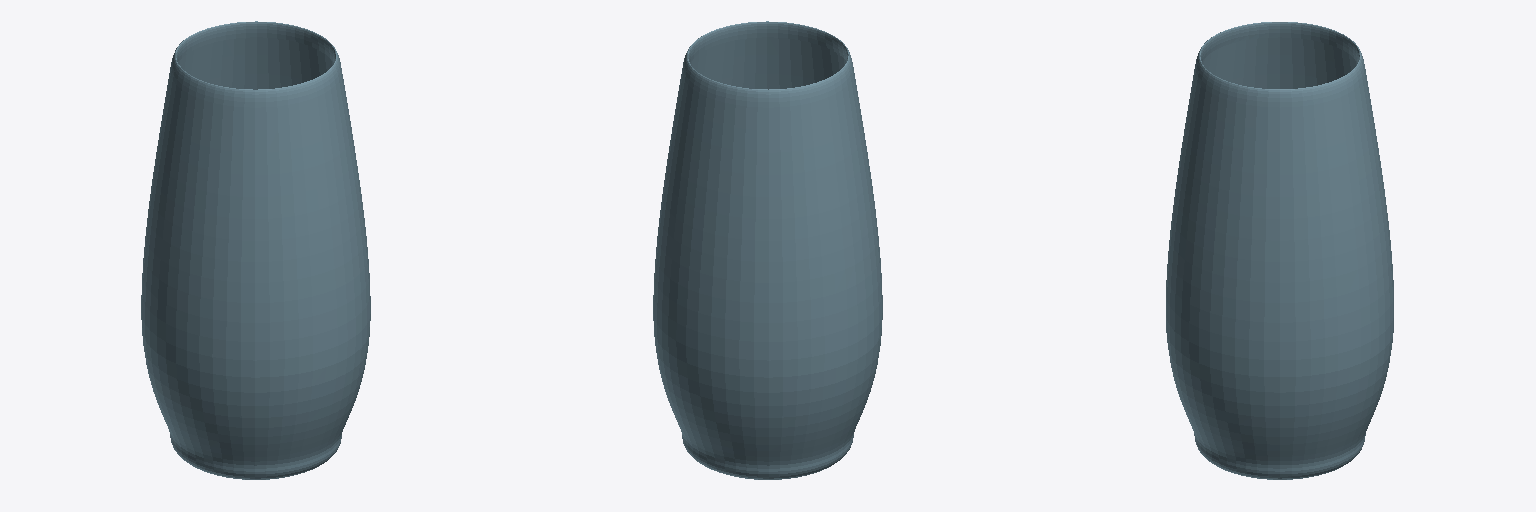
File: vase.obj
The picture shows the model from 3 angles: view 1: azimuth 30°, elevation 25°; view 2: azimuth 150°, elevation 25°; view 3: azimuth 270°, elevation 25°; orthographic projection.
Parts seen in each view (by area): view 1: house_interior:Teapot001 group1; view 2: house_interior:Teapot001 group1; view 3: house_interior:Teapot001 group1.
Boxes of the visible parts, <box> form: house_interior:Teapot001 group1: <box>141,21,370,479</box>; house_interior:Teapot001 group1: <box>653,21,882,479</box>; house_interior:Teapot001 group1: <box>1166,22,1393,479</box>.
Bounding box in the file's own units: 0.4556 × 0.8813 × 0.4556.